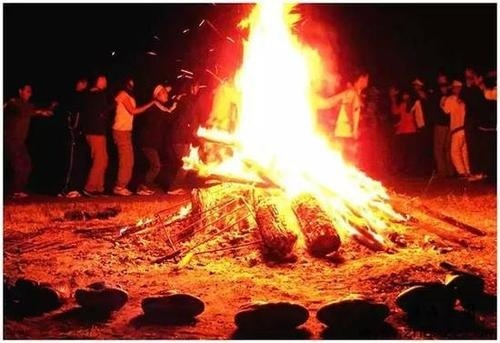fire: (195, 0, 392, 235)
